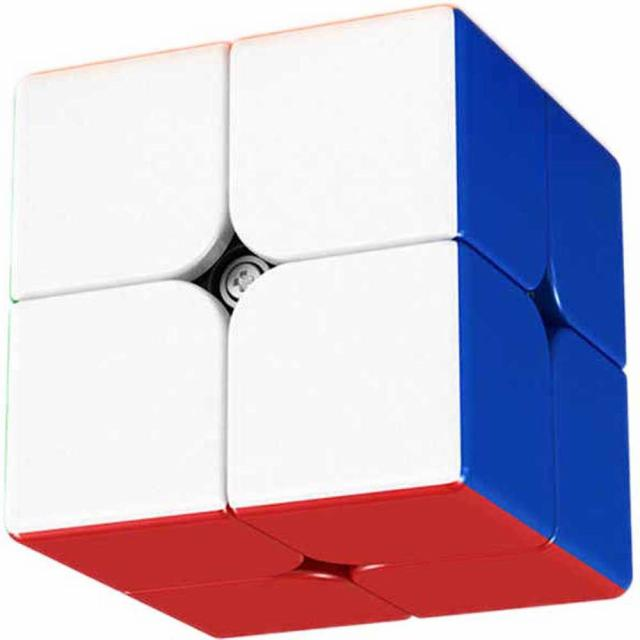cube: (7, 9, 630, 640)
